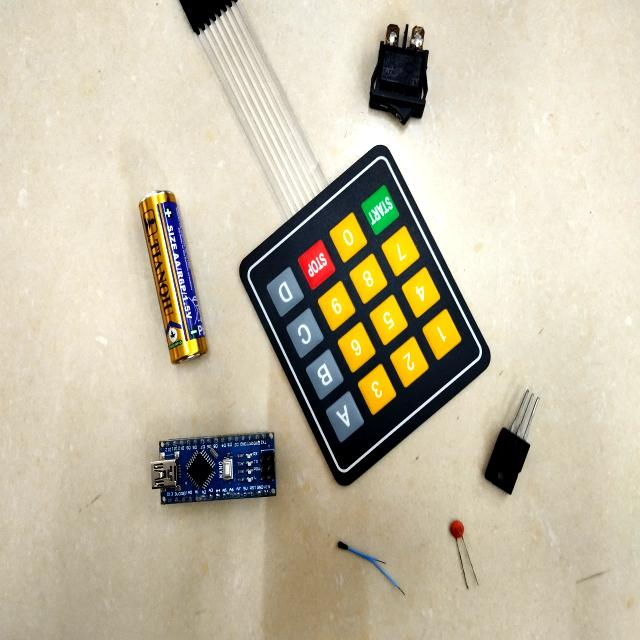capacitor: (449, 520, 478, 587)
